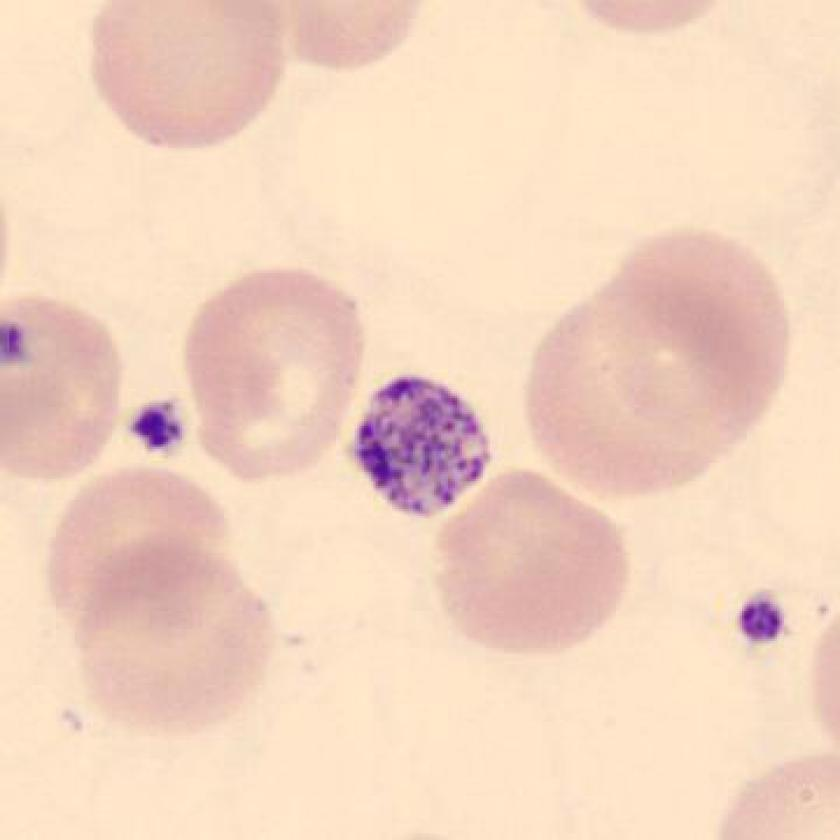platelets: (342, 362, 500, 526), (727, 577, 799, 658), (125, 395, 199, 469)
